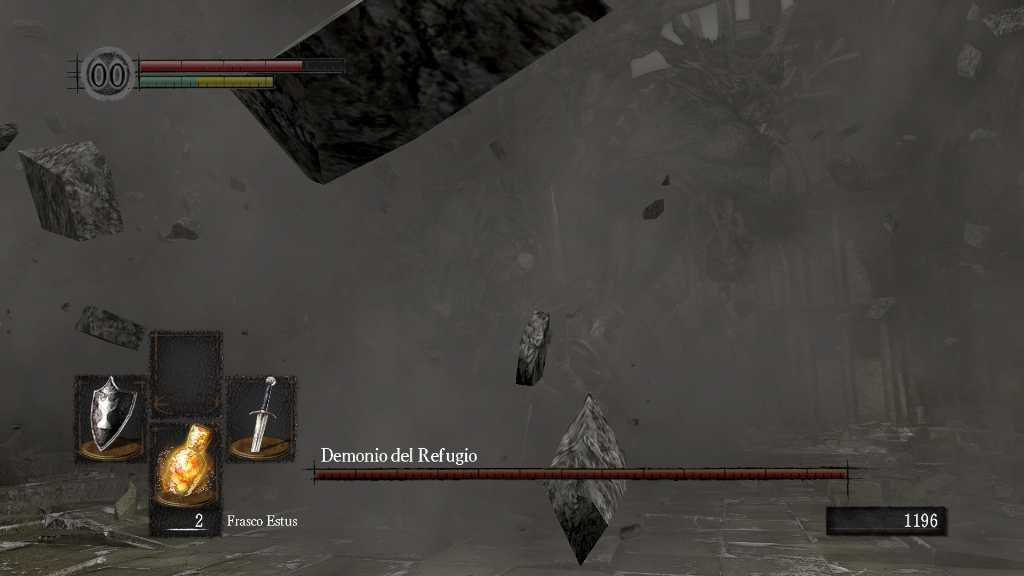bossHP: (314, 469, 847, 479)
health: (138, 58, 343, 71)
humanity: (80, 45, 136, 102)
souls: (825, 506, 945, 536)
stamina: (138, 74, 274, 88)
